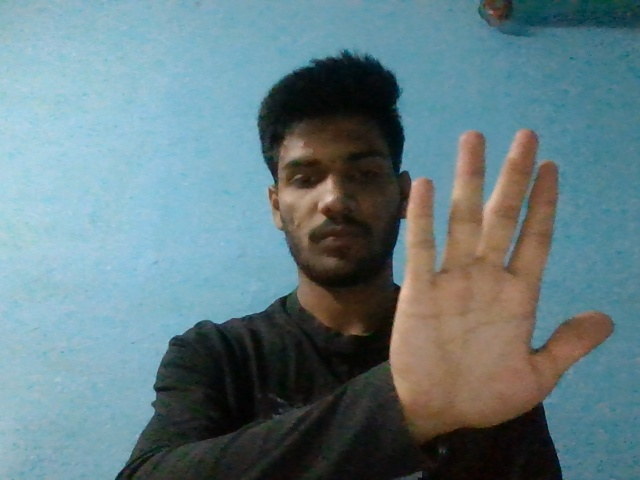Hello: (389, 129, 617, 430)
